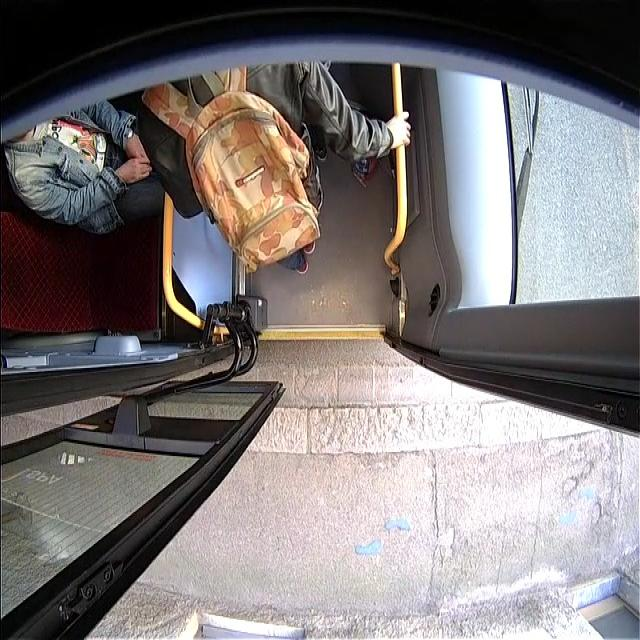bus-door: (0, 382, 284, 638)
